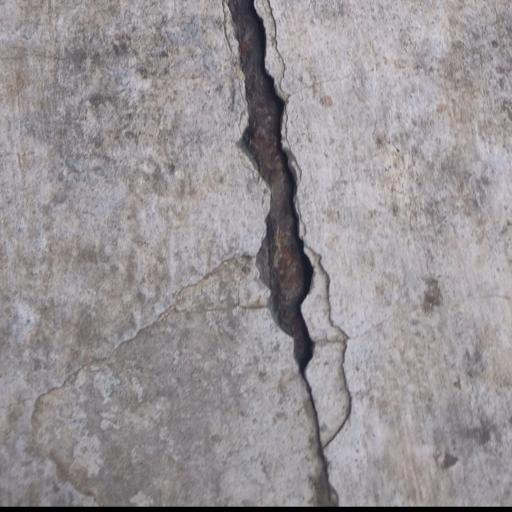spalling: (212, 0, 361, 512)
